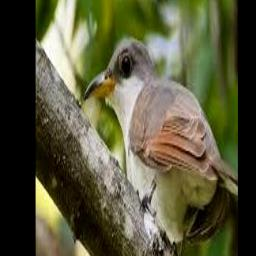Cuckoo: (83, 36, 237, 256)
